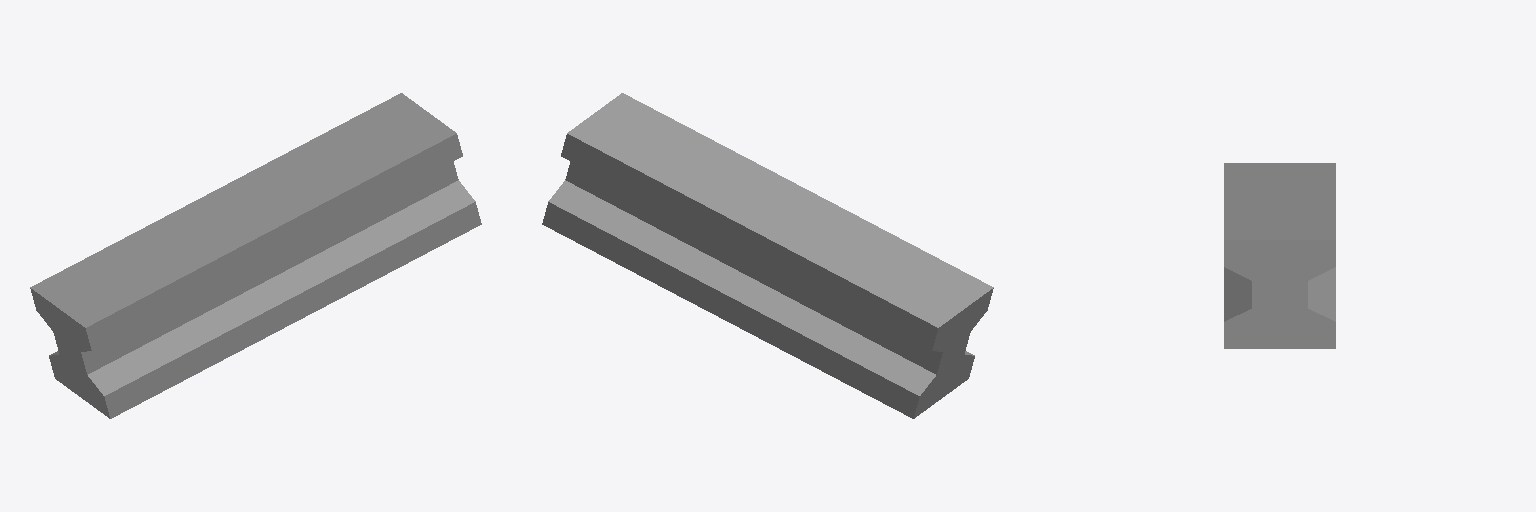
File: -15DegPlatform.obj
The picture shows the model from 3 angles: view 1: azimuth 30°, elevation 25°; view 2: azimuth 150°, elevation 25°; view 3: azimuth 270°, elevation 25°; orthographic projection.
Size of the model in its own units: 8.24 by 4 by 2.